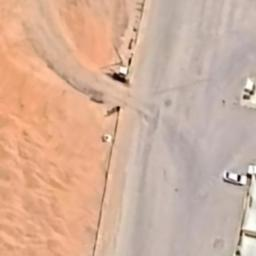sedan: (222, 169, 248, 186)
